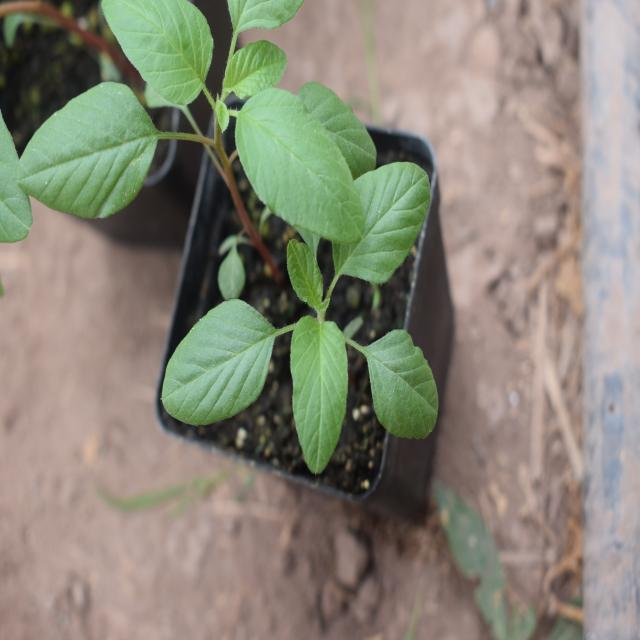pigweed: (41, 0, 367, 255), (168, 191, 441, 482)
